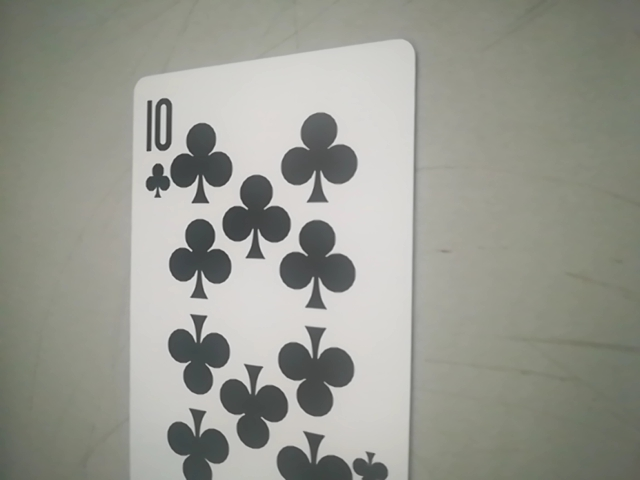mh 10: (131, 45, 428, 480)
